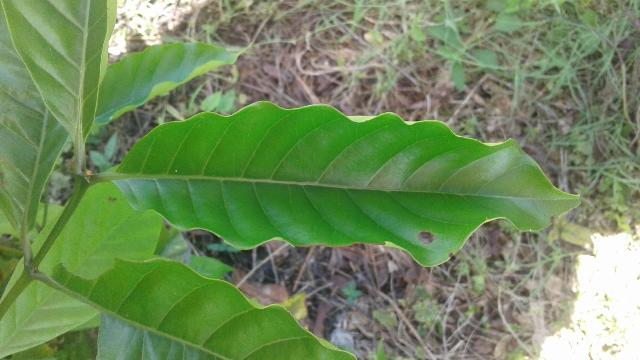healthy: (108, 102, 584, 268)
